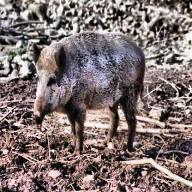boar: (23, 16, 146, 162)
